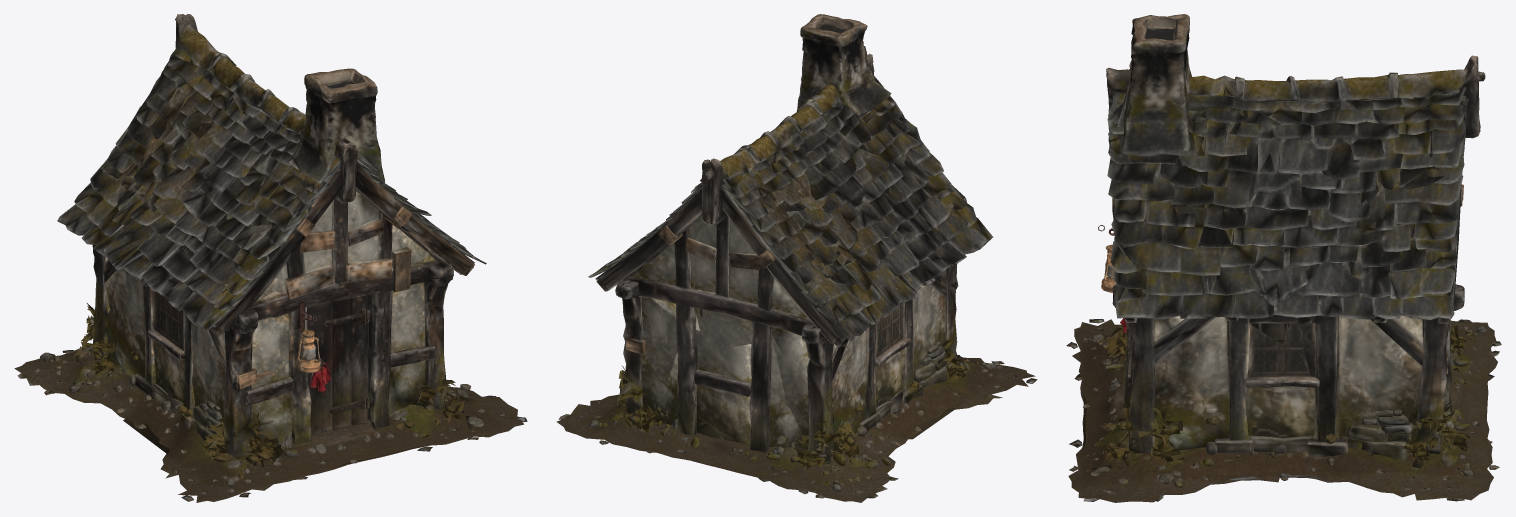
Rendered from vil-house-a.fbx.
3 views of the same model, side by side, from view 1: azimuth 30°, elevation 25°; view 2: azimuth 150°, elevation 25°; view 3: azimuth 270°, elevation 25° (orthographic). The views are drawn at different scales.
Visible parts, largest first — view 1: Mesh_0; view 2: Mesh_0; view 3: Mesh_0.
Boxes of the visible parts, bbox=[...] form: Mesh_0: bbox=[14, 14, 527, 502]; Mesh_0: bbox=[556, 14, 1037, 502]; Mesh_0: bbox=[1066, 14, 1501, 502].
Bounding box in the file's own units: 95.95 × 95.26 × 95.8.
Materials: 1 (1 with a texture image).
